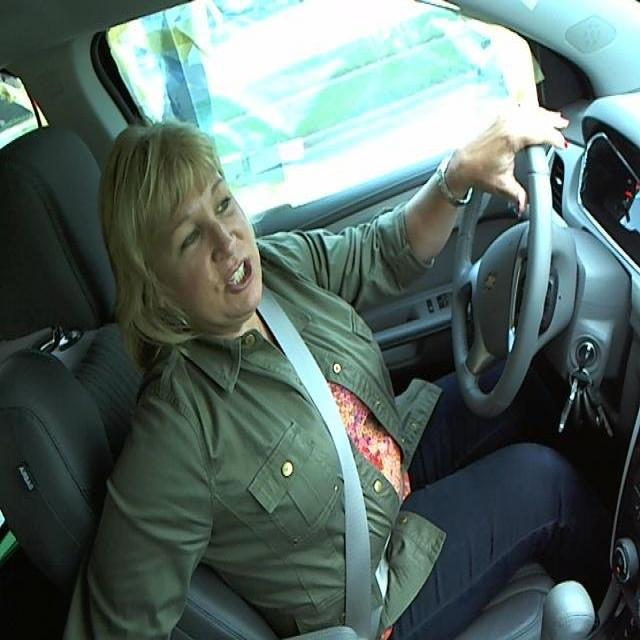seatbelt: (255, 311, 398, 638)
